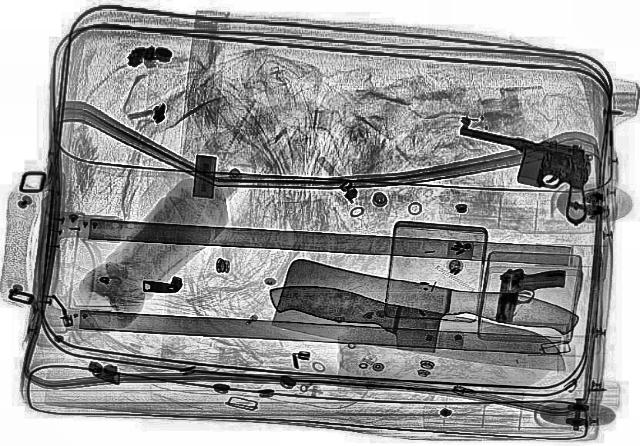Gun: (432, 130, 610, 226), (494, 266, 566, 328)
Knife: (256, 256, 586, 376), (255, 265, 585, 385)
